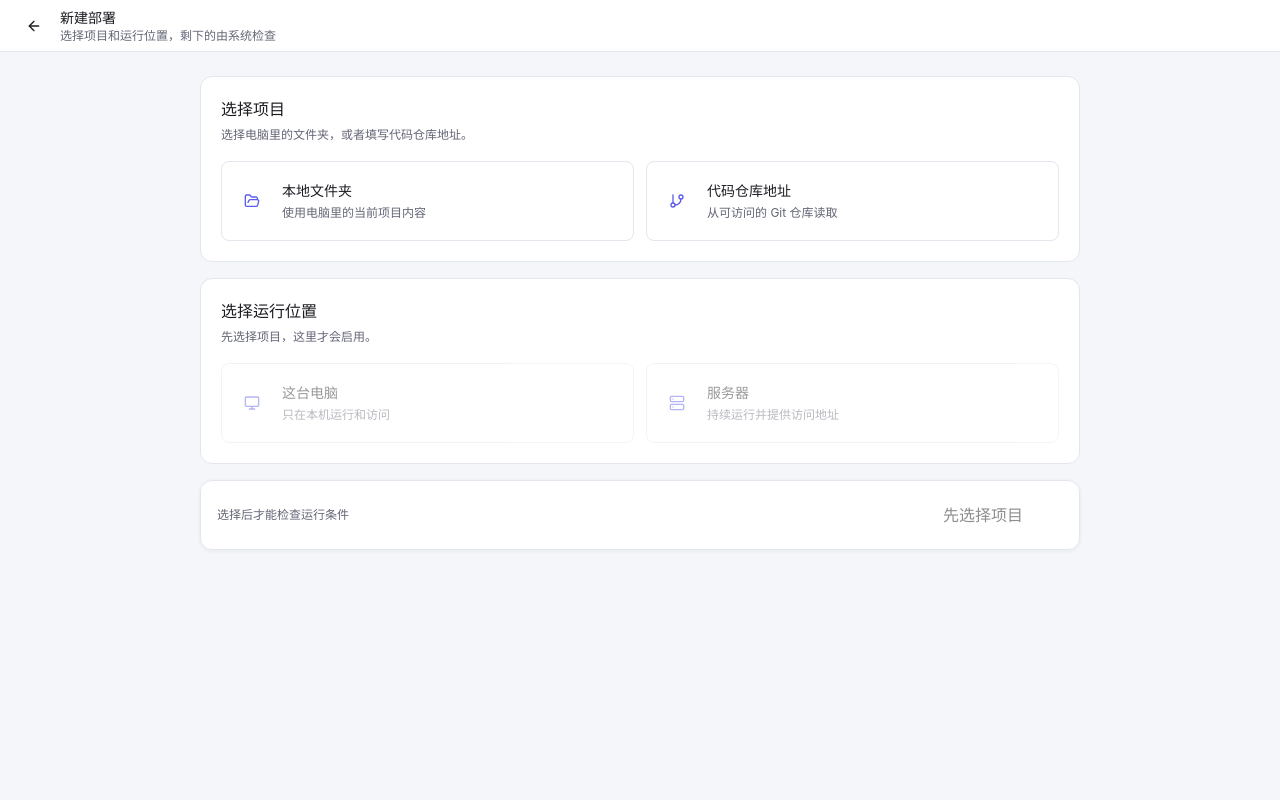
DeploymentEditorController route recovery › 证书签发完成后可直接重新检查现有地址并完成上线
The image size is (1280, 800).
Click the button "本地文件夹 使用电脑里的当前项目内容". click: (252, 201)
box: [221,161,634,241]
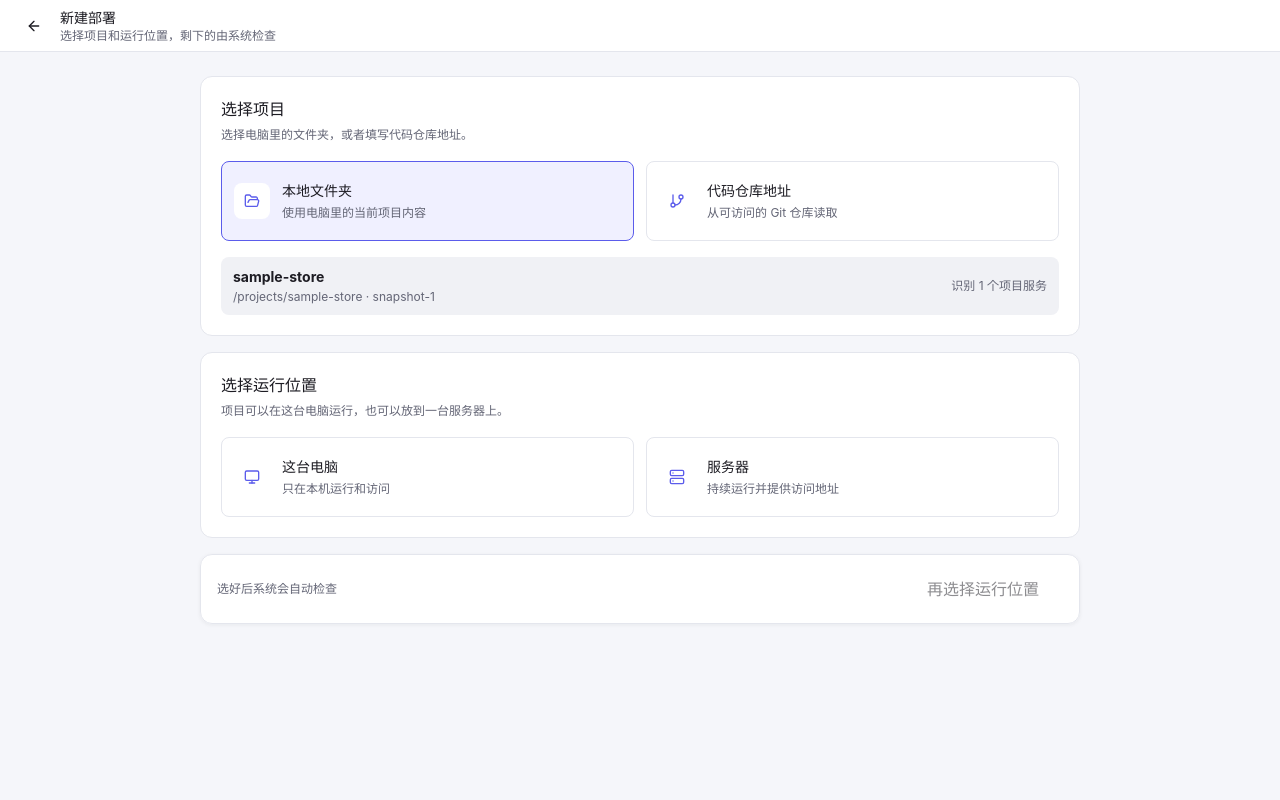
Now the text "/projects/sample-store" is shown, box [233,289,435,304]
Click the button "服务器 持续运行并提供访问地址". click: (677, 477)
box: [646,437,1059,517]
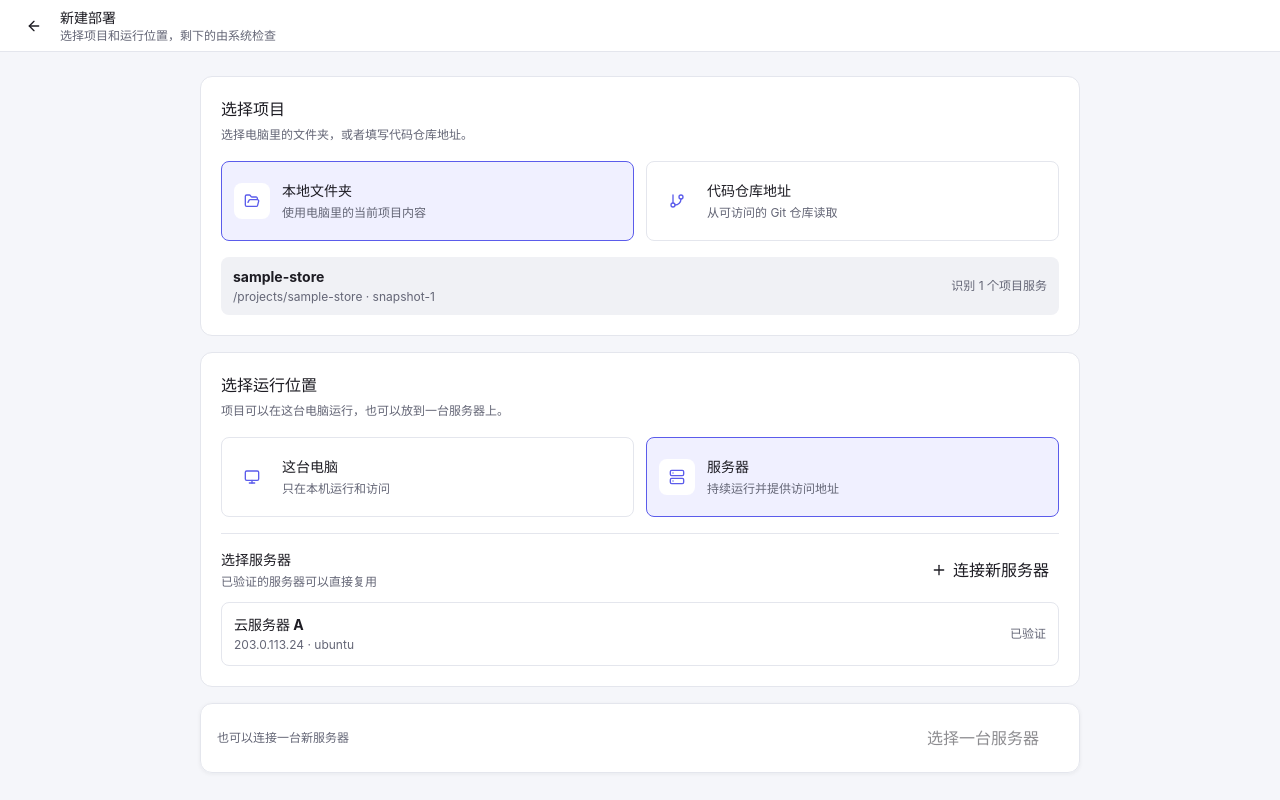
Click the button "云服务器 A 203.0.113.24 · ubuntu 已验证". click: (269, 624)
box: [221,602,1059,666]
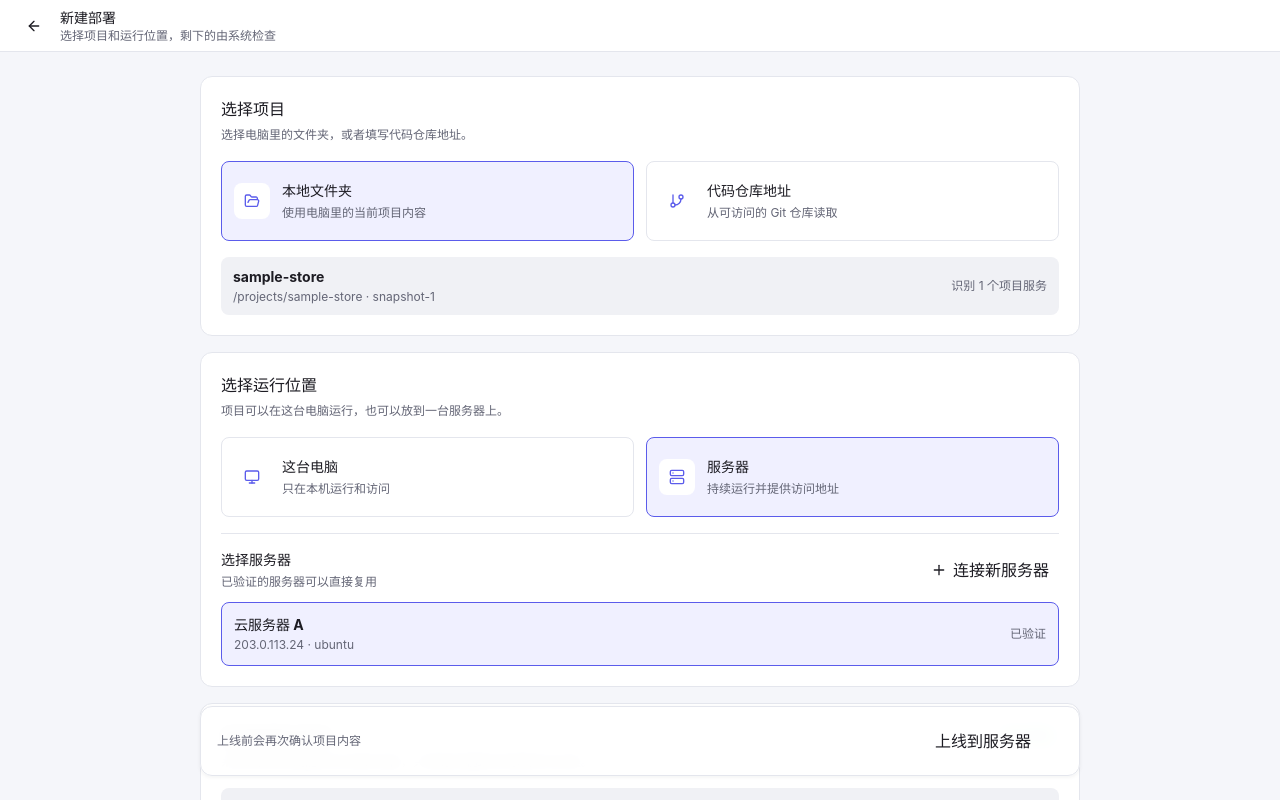
Click the button "上线到服务器". click: (983, 741)
box: [903,723,1063,759]
(page scrolled)
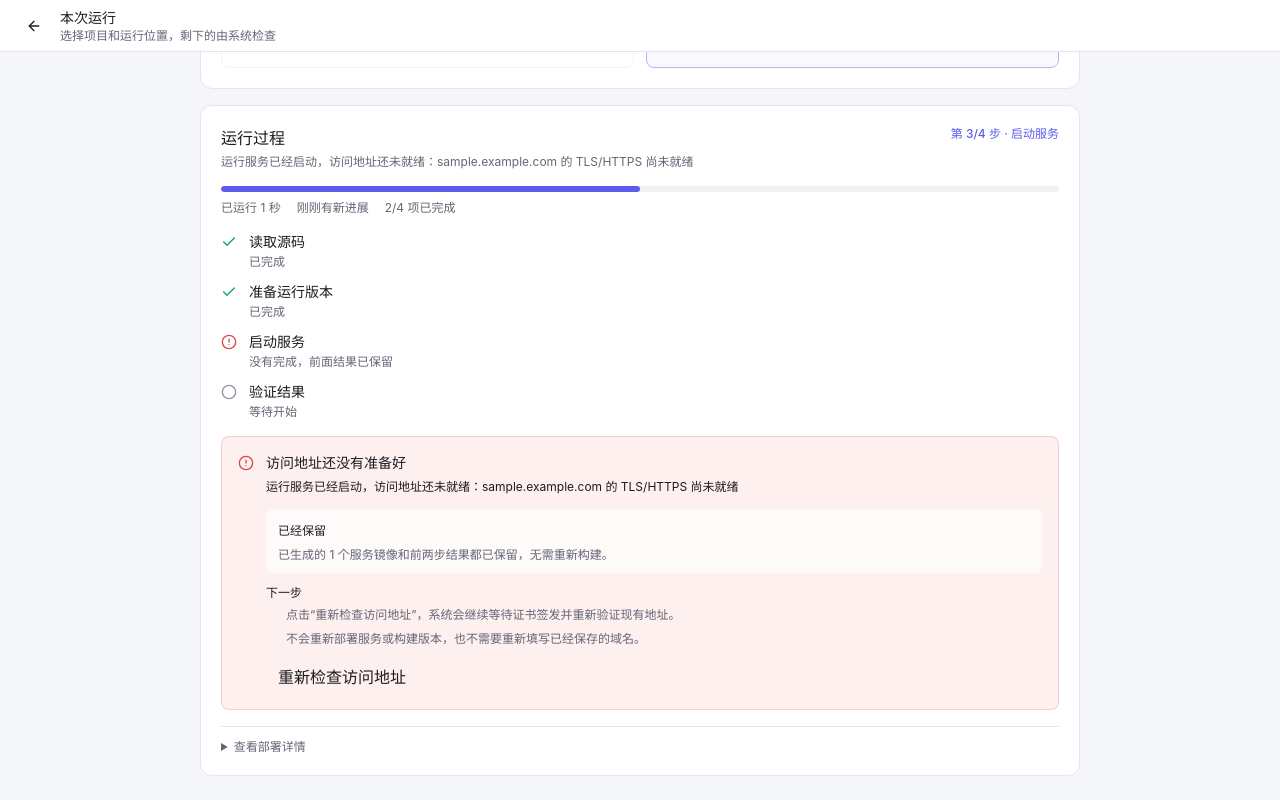
Click the button "重新检查访问地址". click: (342, 677)
box: [266,661,418,693]
(page scrolled)
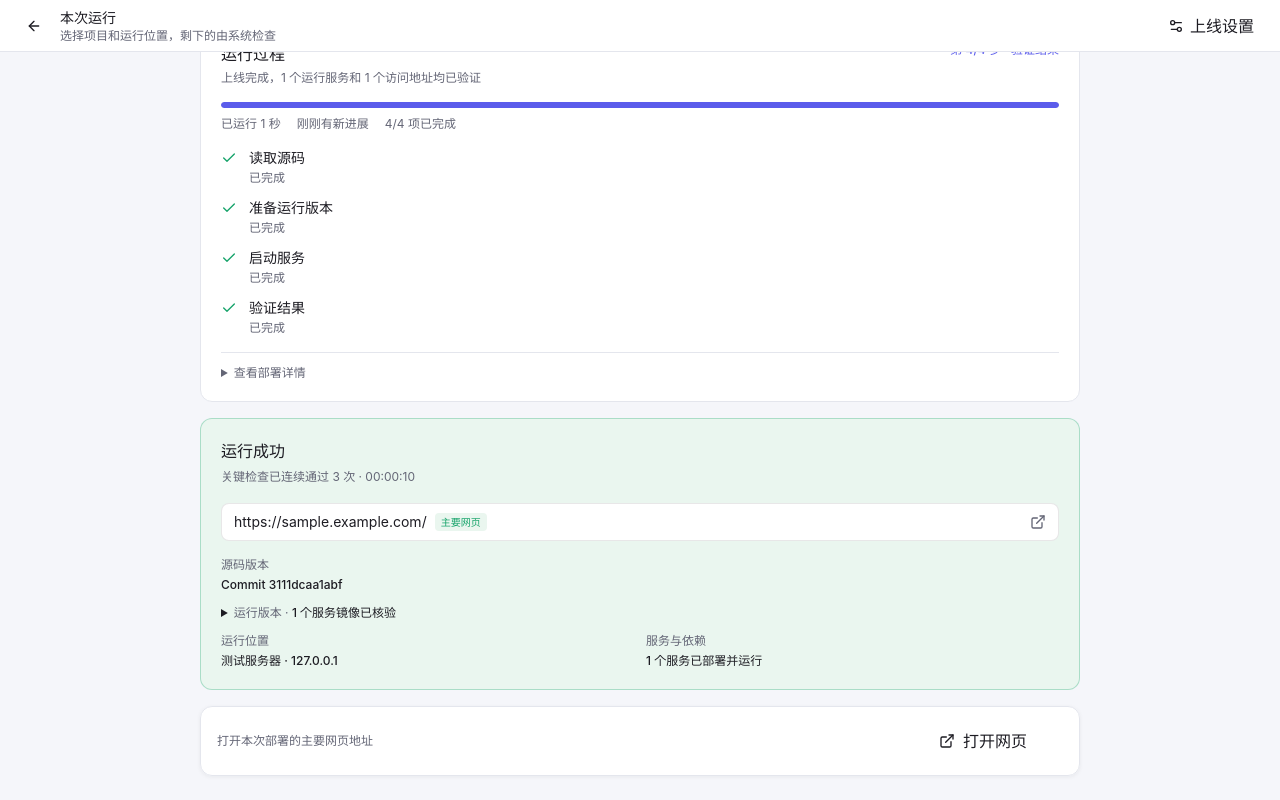
Now the heading "运行成功" is shown, box [221,441,285,461]
Now the text "https://sample.example.com/" is shown, box [234,512,427,532]
